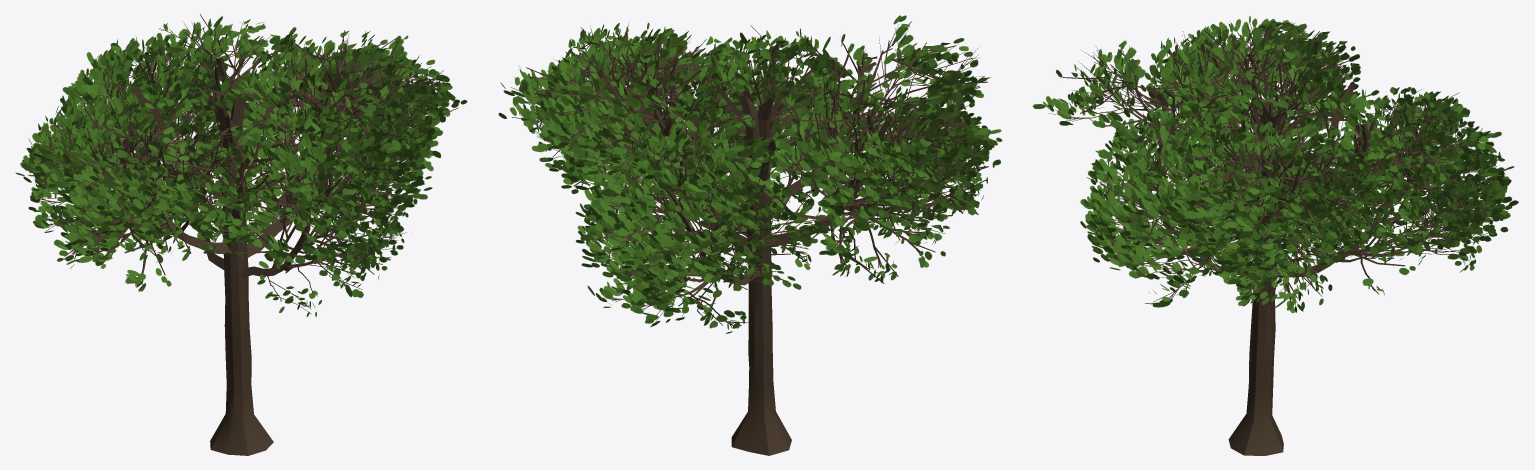
3 renders of one model, left to right at view 1: azimuth 30°, elevation 25°; view 2: azimuth 150°, elevation 25°; view 3: azimuth 270°, elevation 25°, orthographic. The views are drawn at different scales.
Visible parts, largest first — view 1: oak 01.001_trunk_Mat.001_0.053; view 2: oak 01.001_trunk_Mat.001_0.053; view 3: oak 01.001_trunk_Mat.001_0.053.
Part boxes in pixels (x1=…): oak 01.001_trunk_Mat.001_0.053: x1=15, y1=14, x2=467, y2=455; oak 01.001_trunk_Mat.001_0.053: x1=498, y1=15, x2=1002, y2=455; oak 01.001_trunk_Mat.001_0.053: x1=1033, y1=16, x2=1518, y2=455.
Bounding box in the file's own units: 4.9 × 3.9 × 4.89.
Materials: 2 (1 with a texture image).
